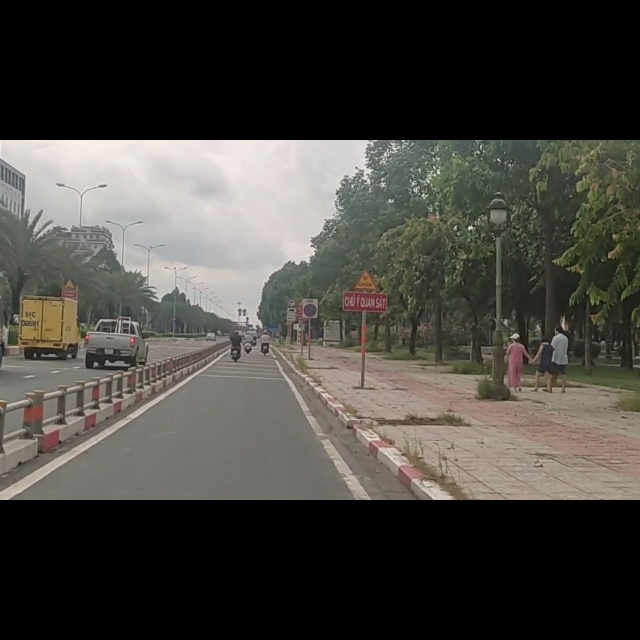bien_nguy_hiem: (352, 229, 378, 269), (301, 280, 319, 318), (285, 295, 297, 324), (287, 283, 297, 296)
